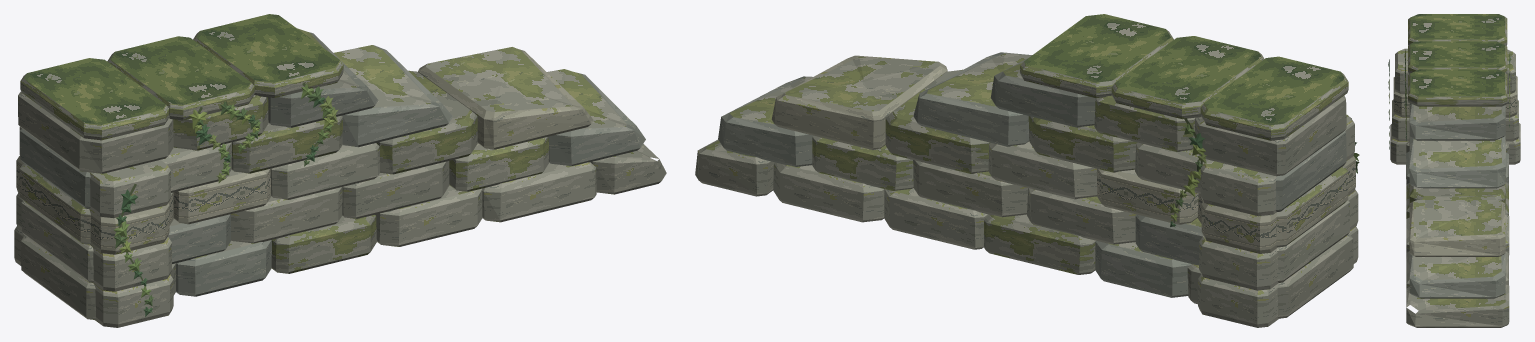
The model's file is ruin_wall_2m.glb.
3 renders of one model, left to right at view 1: azimuth 30°, elevation 25°; view 2: azimuth 150°, elevation 25°; view 3: azimuth 270°, elevation 25°, orthographic. The views are drawn at different scales.
Visible parts, largest first — view 1: ruin_wall_2m; view 2: ruin_wall_2m; view 3: ruin_wall_2m.
Boxes of the visible parts, <box> form: ruin_wall_2m: <box>14,14,666,327</box>; ruin_wall_2m: <box>695,14,1359,327</box>; ruin_wall_2m: <box>1388,14,1520,327</box>.
Bounding box in the file's own units: 6.33 × 2 × 1.88.
2 materials, 1 textured.
